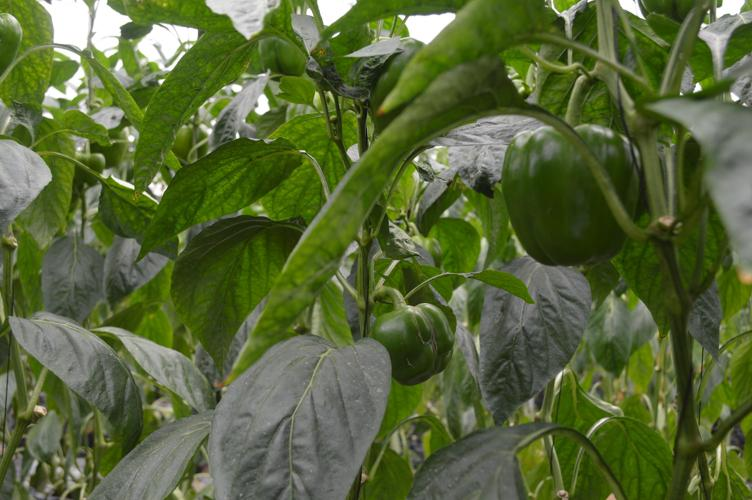BellPepper: (495, 119, 640, 269), (371, 308, 455, 384)
